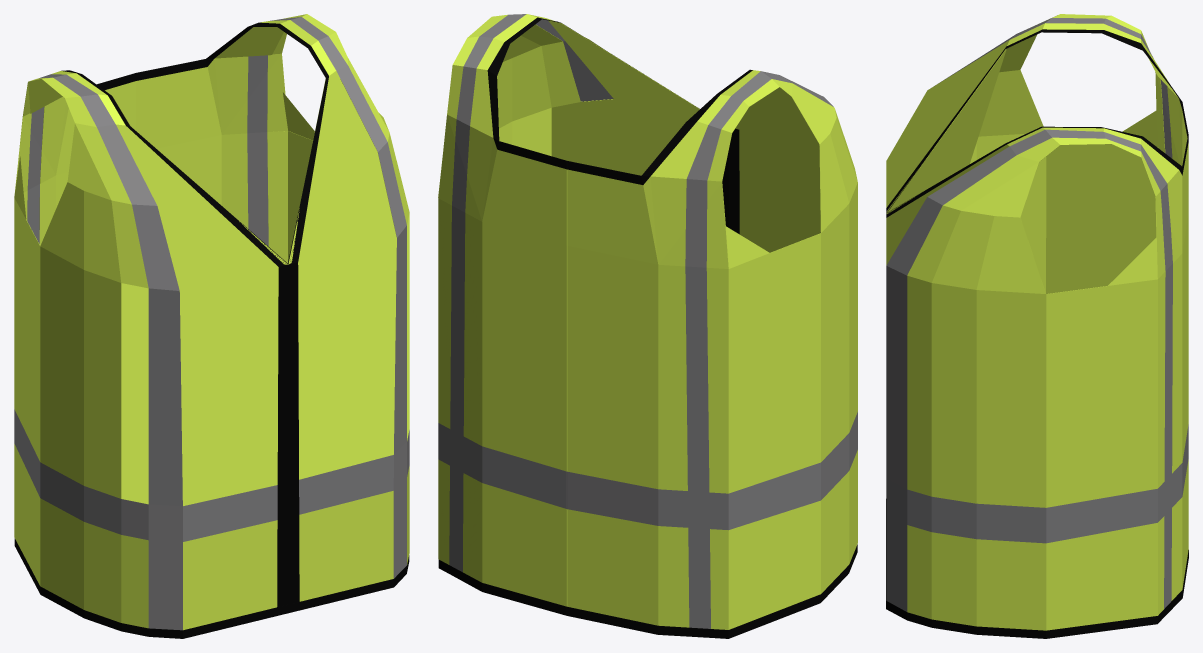
File: SafetyVest.fbx
3 views of the same model, side by side, from view 1: azimuth 30°, elevation 25°; view 2: azimuth 150°, elevation 25°; view 3: azimuth 270°, elevation 25° (orthographic). The views are drawn at different scales.
Parts seen in each view (by area): view 1: Plane, Stripes, Border.001; view 2: Plane, Stripes, Border.001; view 3: Plane, Stripes, Border.001.
Part boxes in pixels (bbox=[...]): Plane: bbox=[14, 14, 409, 630]; Stripes: bbox=[14, 17, 409, 630]; Border.001: bbox=[14, 22, 409, 638]; Plane: bbox=[438, 14, 857, 629]; Stripes: bbox=[438, 14, 857, 628]; Border.001: bbox=[438, 17, 857, 638]; Plane: bbox=[886, 14, 1188, 630]; Stripes: bbox=[886, 18, 1188, 611]; Border.001: bbox=[886, 29, 1188, 638].
Bounding box in the file's own units: 39.39 × 54.73 × 31.17.
